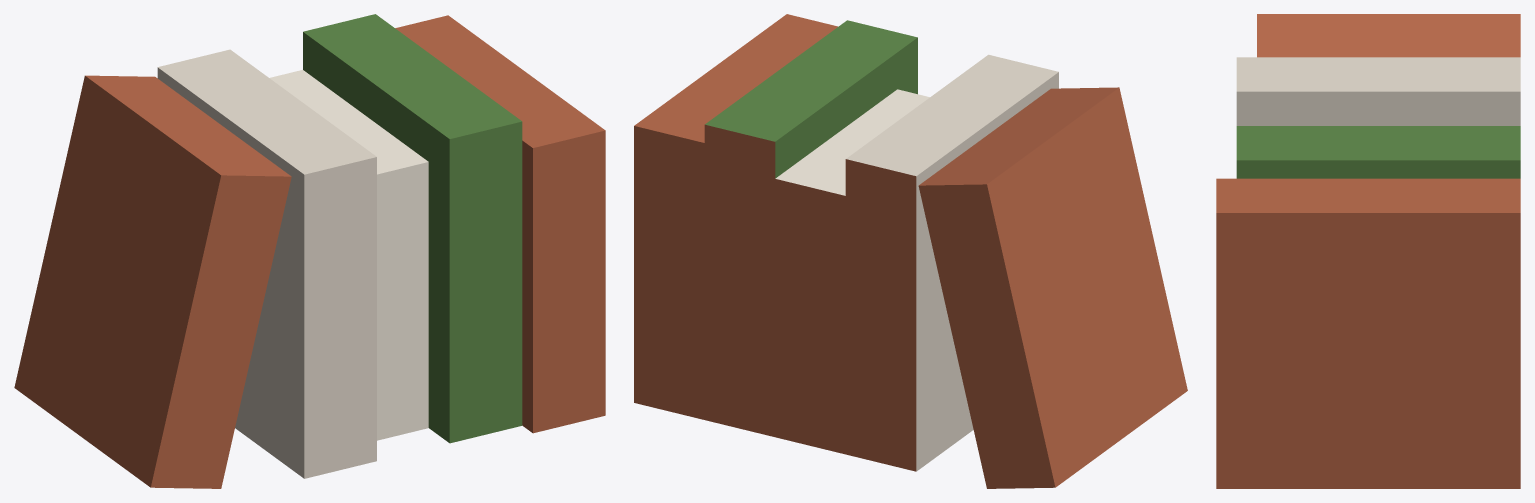
File: kitBooks.glb
3 renders of one model, left to right at view 1: azimuth 30°, elevation 25°; view 2: azimuth 150°, elevation 25°; view 3: azimuth 270°, elevation 25°, orthographic. The views are drawn at different scales.
Visible parts, largest first — view 1: kitBooks_fabricDark, kitBooks_metal, kitBooks_leaf, kitBooks_fabricLight; view 2: kitBooks_fabricDark, kitBooks_metal, kitBooks_leaf, kitBooks_fabricLight; view 3: kitBooks_fabricDark, kitBooks_metal, kitBooks_leaf.
Part boxes in pixels (x1=…): kitBooks_fabricDark: x1=14, y1=15, x2=605, y2=488; kitBooks_metal: x1=157, y1=49, x2=376, y2=478; kitBooks_leaf: x1=303, y1=14, x2=522, y2=443; kitBooks_fabricLight: x1=269, y1=70, x2=428, y2=440; kitBooks_fabricDark: x1=634, y1=14, x2=1187, y2=488; kitBooks_metal: x1=846, y1=54, x2=1058, y2=471; kitBooks_leaf: x1=705, y1=20, x2=917, y2=178; kitBooks_fabricLight: x1=775, y1=89, x2=929, y2=195; kitBooks_fabricDark: x1=1216, y1=14, x2=1520, y2=488; kitBooks_metal: x1=1236, y1=57, x2=1520, y2=125; kitBooks_leaf: x1=1236, y1=126, x2=1520, y2=178.
Bounding box in the file's own units: 0.3009 × 0.2078 × 0.189.
